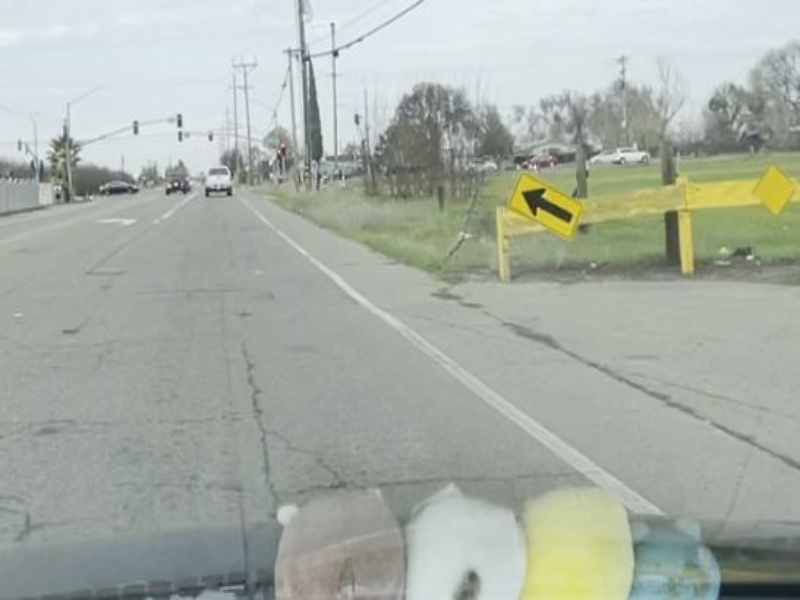merge sign: (507, 170, 584, 241)
